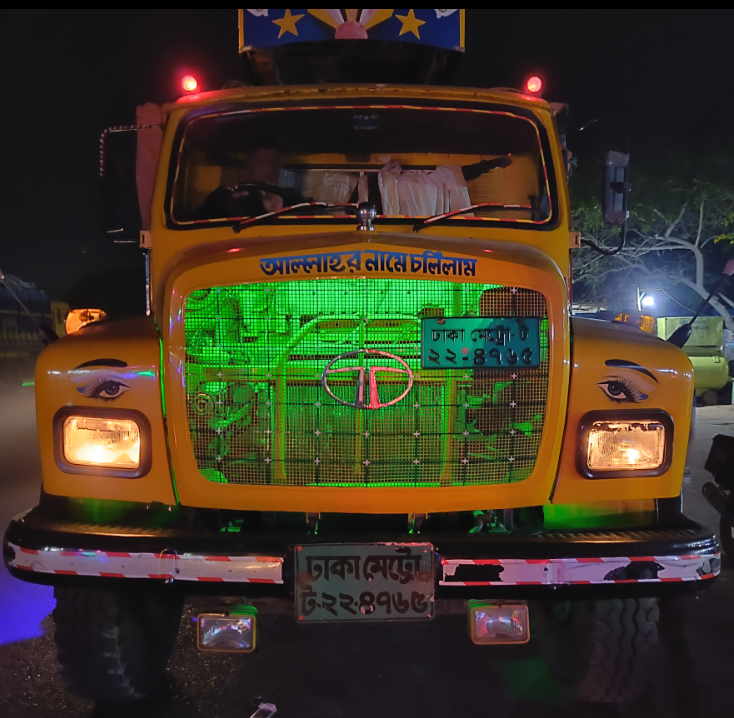Truck: (18, 13, 725, 676)
